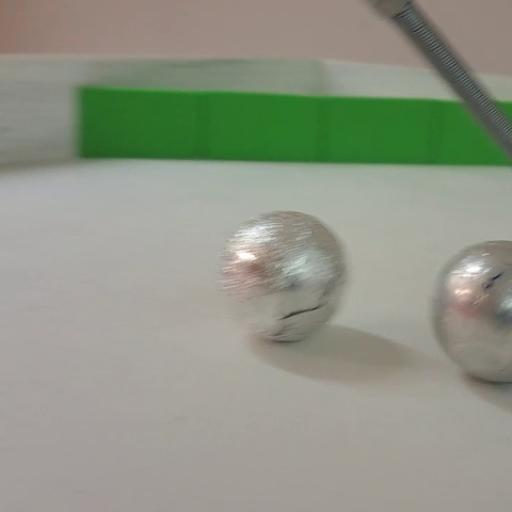alive: (220, 210, 348, 340), (425, 236, 512, 385)
